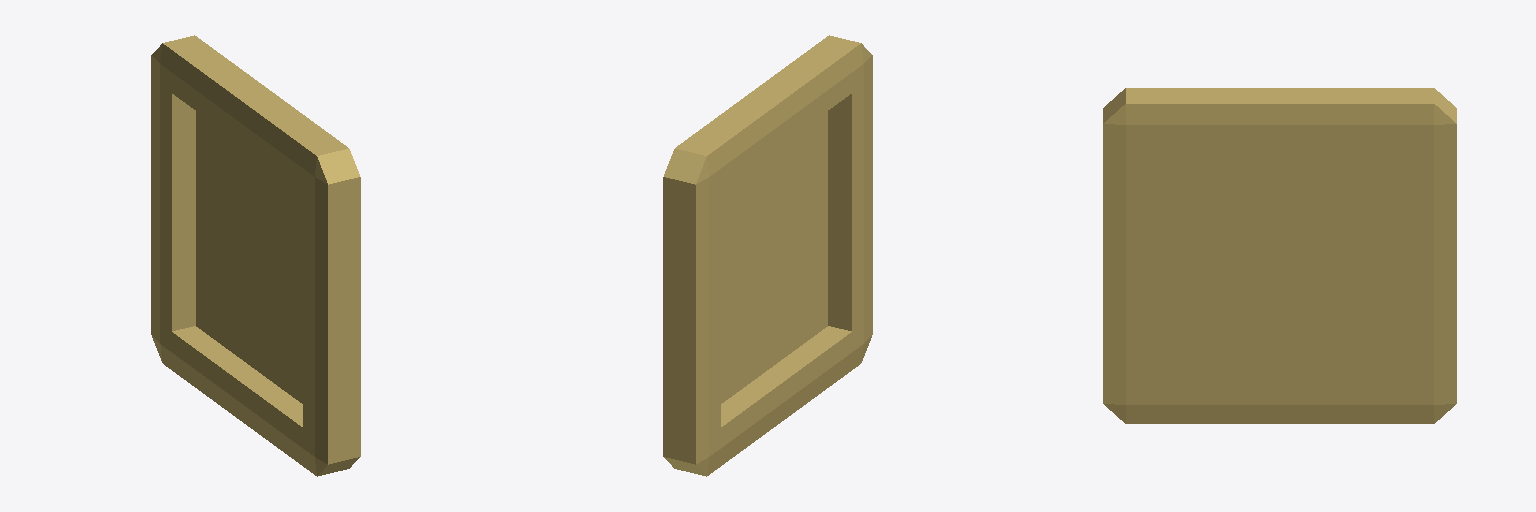
The model's file is Case.obj.
3 views of the same model, side by side, from view 1: azimuth 30°, elevation 25°; view 2: azimuth 150°, elevation 25°; view 3: azimuth 270°, elevation 25° (orthographic).
Parts seen in each view (by area): view 1: Cube; view 2: Cube; view 3: Cube.
Part boxes in pixels (x1,y1,x2,y2): Cube: (151,35,360,476); Cube: (663,35,872,476); Cube: (1103,88,1456,423).
Bounding box in the file's own units: 0.1158 × 0.9572 × 0.9572.